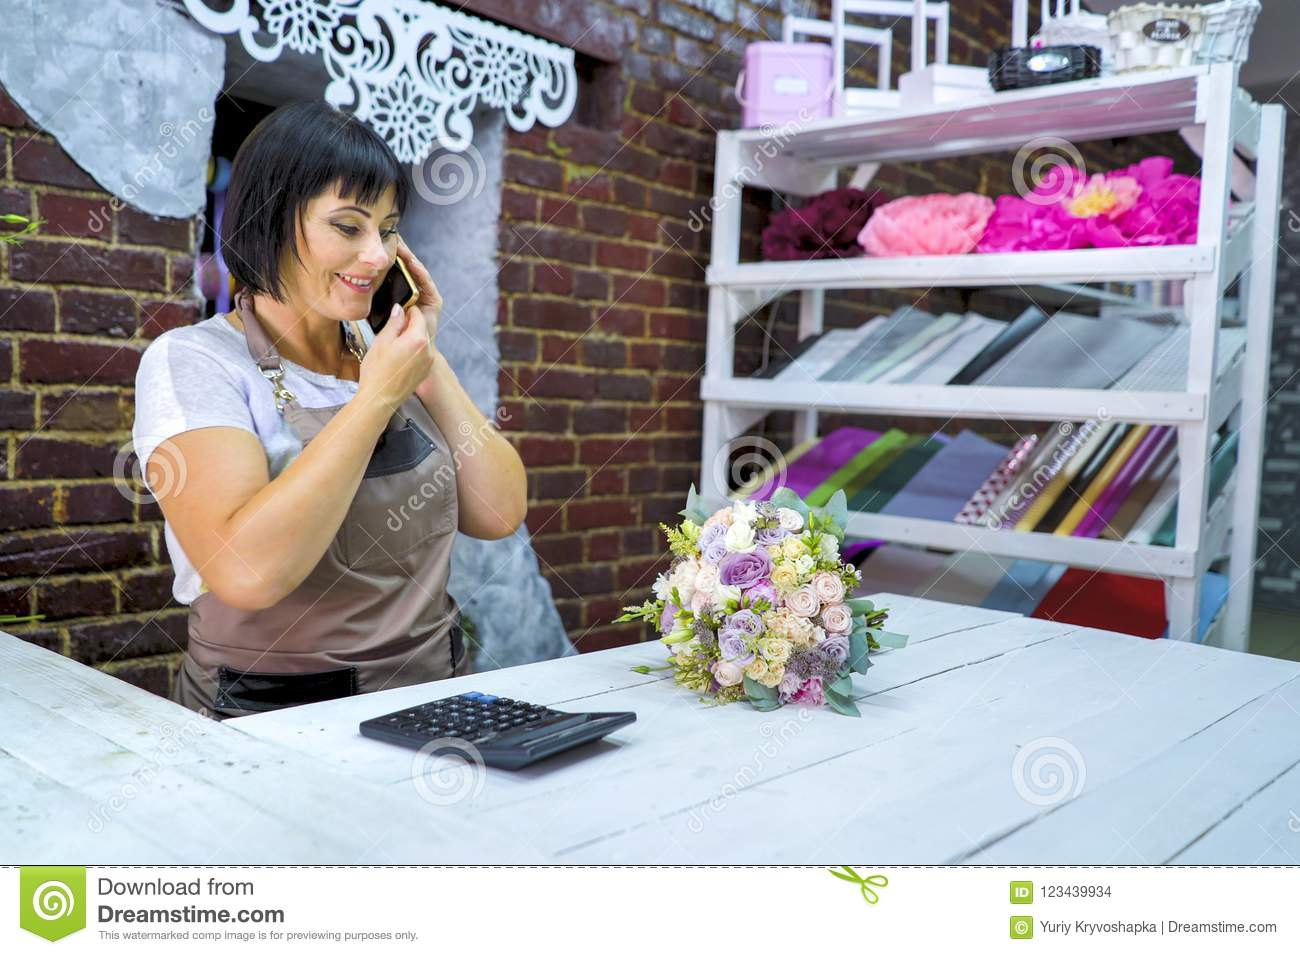phone: (367, 251, 425, 342)
talk: (311, 195, 447, 372)
